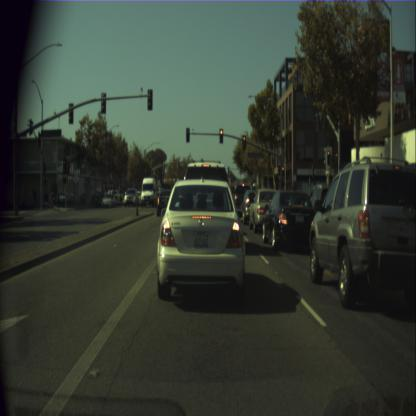Red: (325, 146, 332, 170), (219, 128, 223, 143), (242, 135, 246, 149), (186, 128, 189, 142), (281, 166, 284, 178)
RedLeft: (62, 158, 66, 172)
